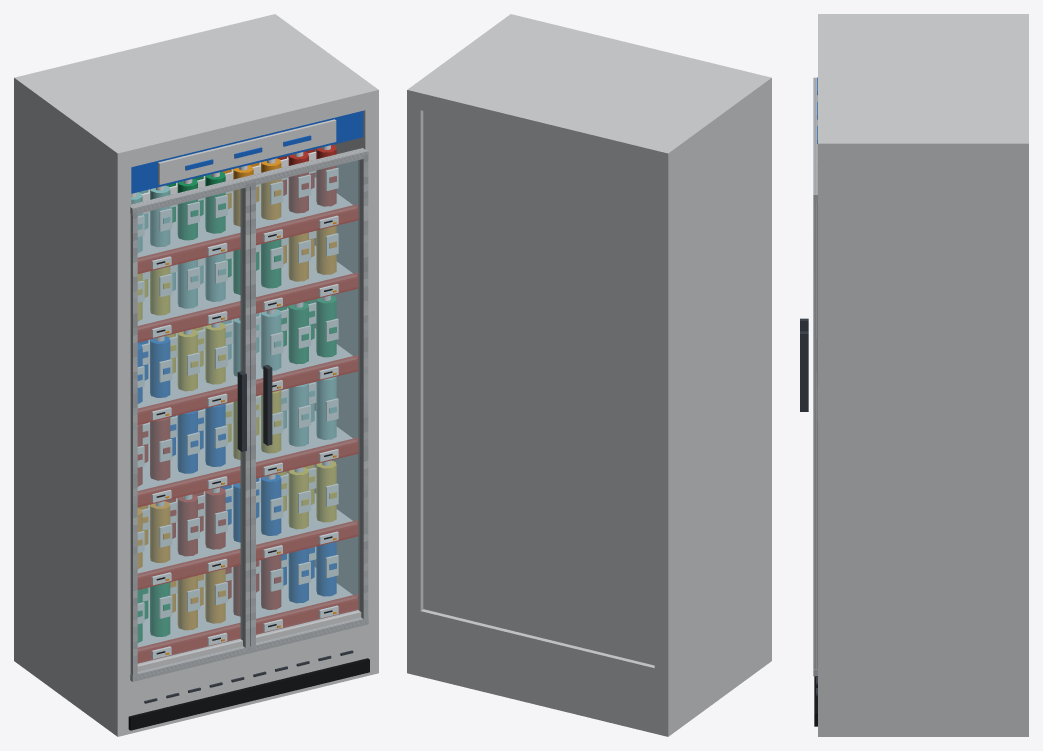
File: shelf-cooler.glb
3 renders of one model, left to right at view 1: azimuth 30°, elevation 25°; view 2: azimuth 150°, elevation 25°; view 3: azimuth 270°, elevation 25°, orthographic.
Parts seen in each view (by area): view 1: ShelfCooler, cooler-side-left, cooler-top, shelf-base, stock-labels_eef1f4, cooler-side-right, stock-bottles_1b6fd6, stock-bottles_bc3a2f, stock-bottles_8ccaca, stock-bottles_e6c543, stock-bottles_1f9c63, stock-bottles_f0a128 (+11 smaller); view 2: shelf-back, cooler-side-left, cooler-top, shelf-base, cooler-side-right; view 3: cooler-side-right, cooler-top, shelf-base, ShelfCooler.
Boxes of the visible parts, left/top/right/bottom form: ShelfCooler: left=130, top=119, right=368, bottom=681; cooler-side-left: left=14, top=95, right=131, bottom=671; cooler-top: left=14, top=14, right=378, bottom=170; shelf-base: left=14, top=596, right=378, bottom=736; stock-labels_eef1f4: left=137, top=151, right=338, bottom=659; cooler-side-right: left=287, top=107, right=378, bottom=610; stock-bottles_1b6fd6: left=137, top=336, right=336, bottom=603; stock-bottles_bc3a2f: left=137, top=145, right=336, bottom=616; stock-bottles_8ccaca: left=131, top=185, right=336, bottom=446; stock-bottles_e6c543: left=137, top=266, right=336, bottom=529; stock-bottles_1f9c63: left=137, top=172, right=336, bottom=642; stock-bottles_f0a128: left=137, top=158, right=336, bottom=630; shelf-back: left=423, top=111, right=654, bottom=665; cooler-side-left: left=654, top=95, right=771, bottom=671; cooler-top: left=407, top=14, right=771, bottom=170; shelf-base: left=407, top=596, right=771, bottom=736; cooler-side-right: left=407, top=107, right=423, bottom=610; cooler-side-right: left=818, top=161, right=1028, bottom=670; cooler-top: left=818, top=14, right=1028, bottom=160; shelf-base: left=818, top=670, right=1028, bottom=736; ShelfCooler: left=800, top=77, right=817, bottom=676.
Size of the model in its own units: 0.96 by 2.05 by 0.7165.
Materials: 16 (1 with a texture image).
